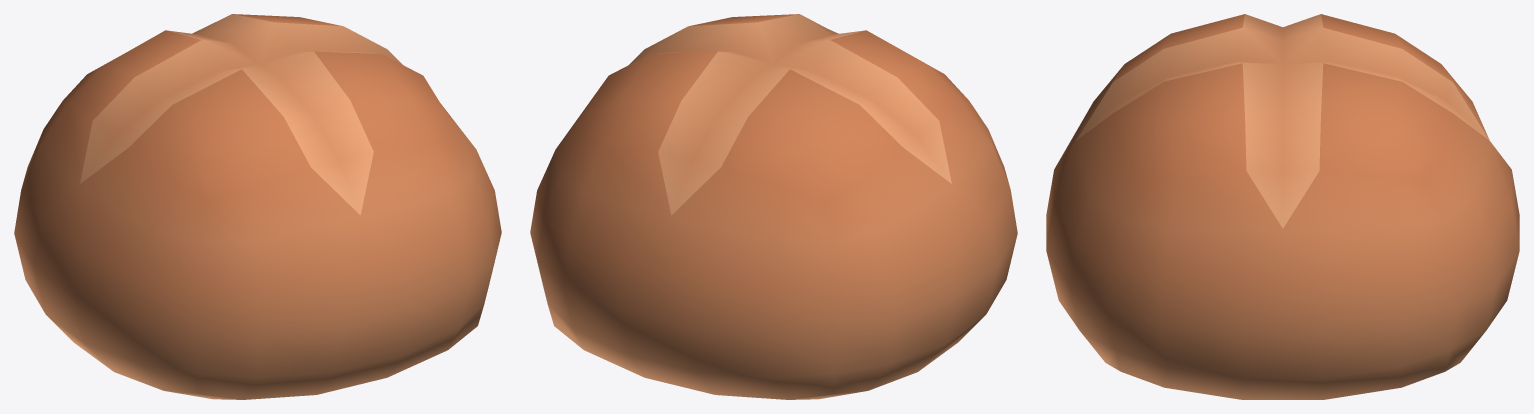
File: bread-roll.glb
The picture shows the model from 3 angles, left to right: view 1: azimuth 30°, elevation 25°; view 2: azimuth 150°, elevation 25°; view 3: azimuth 270°, elevation 25°; orthographic projection.
Parts seen in each view (by area): view 1: bread_roll; view 2: bread_roll; view 3: bread_roll.
Part boxes in pixels (x1,y1,x2,y2): bread_roll: [14, 14, 501, 399]; bread_roll: [530, 14, 1017, 399]; bread_roll: [1046, 14, 1519, 399].
Bounding box in the file's own units: 0.4196 × 0.2997 × 0.4196.
Materials: 1 (1 with a texture image).
